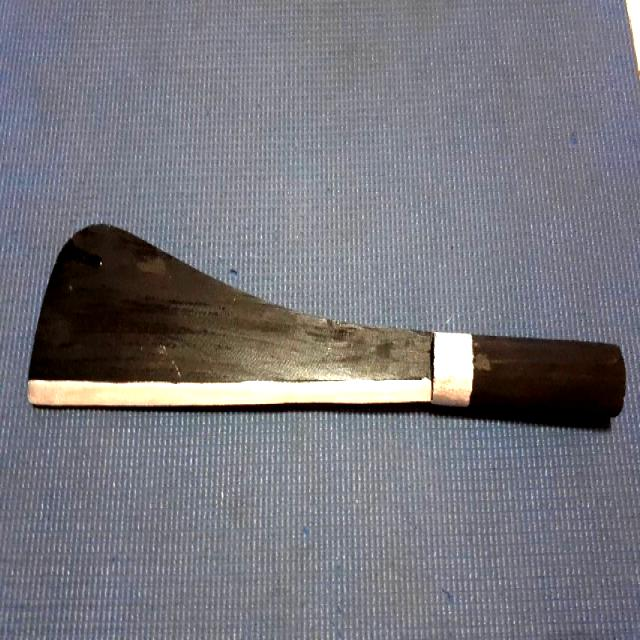eto: (27, 220, 626, 427)
